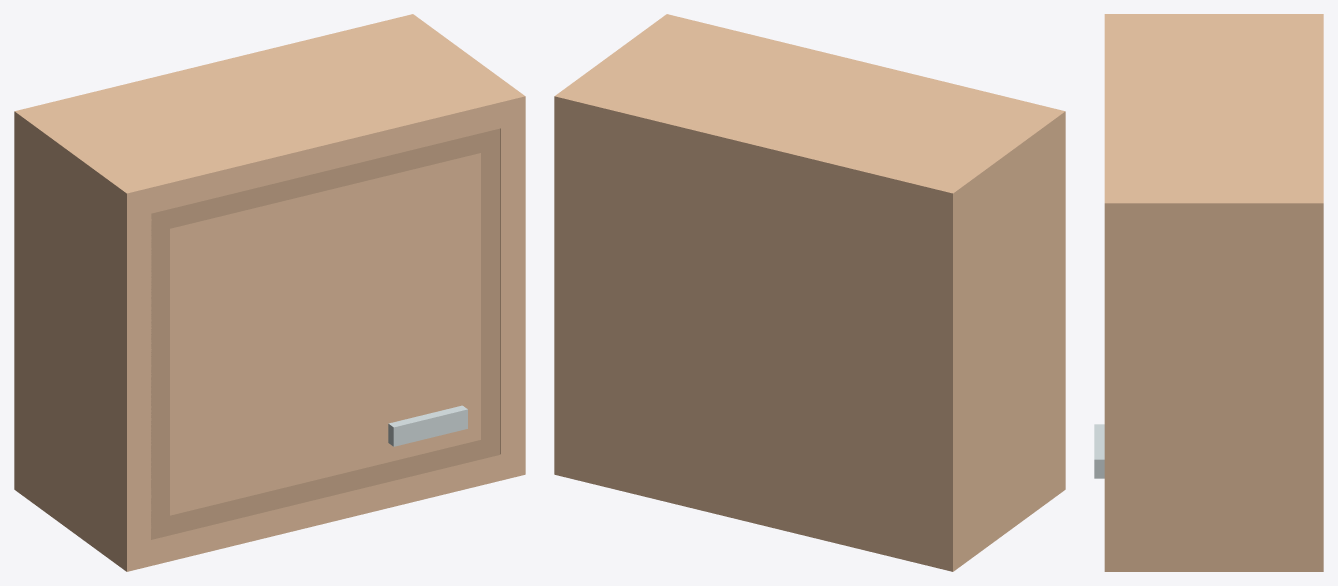
Rendered from cabinetUpper.glb.
3 views of the same model, side by side, from view 1: azimuth 30°, elevation 25°; view 2: azimuth 150°, elevation 25°; view 3: azimuth 270°, elevation 25° (orthographic). The views are drawn at different scales.
Parts seen in each view (by area): view 1: kitchenCabinetUpper(Clone), door.006; view 2: kitchenCabinetUpper(Clone); view 3: kitchenCabinetUpper(Clone), door.006.
Boxes of the visible parts, bbox=[...] form: kitchenCabinetUpper(Clone): bbox=[14, 14, 525, 571]; door.006: bbox=[151, 128, 499, 539]; kitchenCabinetUpper(Clone): bbox=[554, 14, 1065, 571]; kitchenCabinetUpper(Clone): bbox=[1104, 14, 1323, 571]; door.006: bbox=[1094, 424, 1104, 478].
Bounding box in the file's own units: 0.43 × 0.39 × 0.22.
